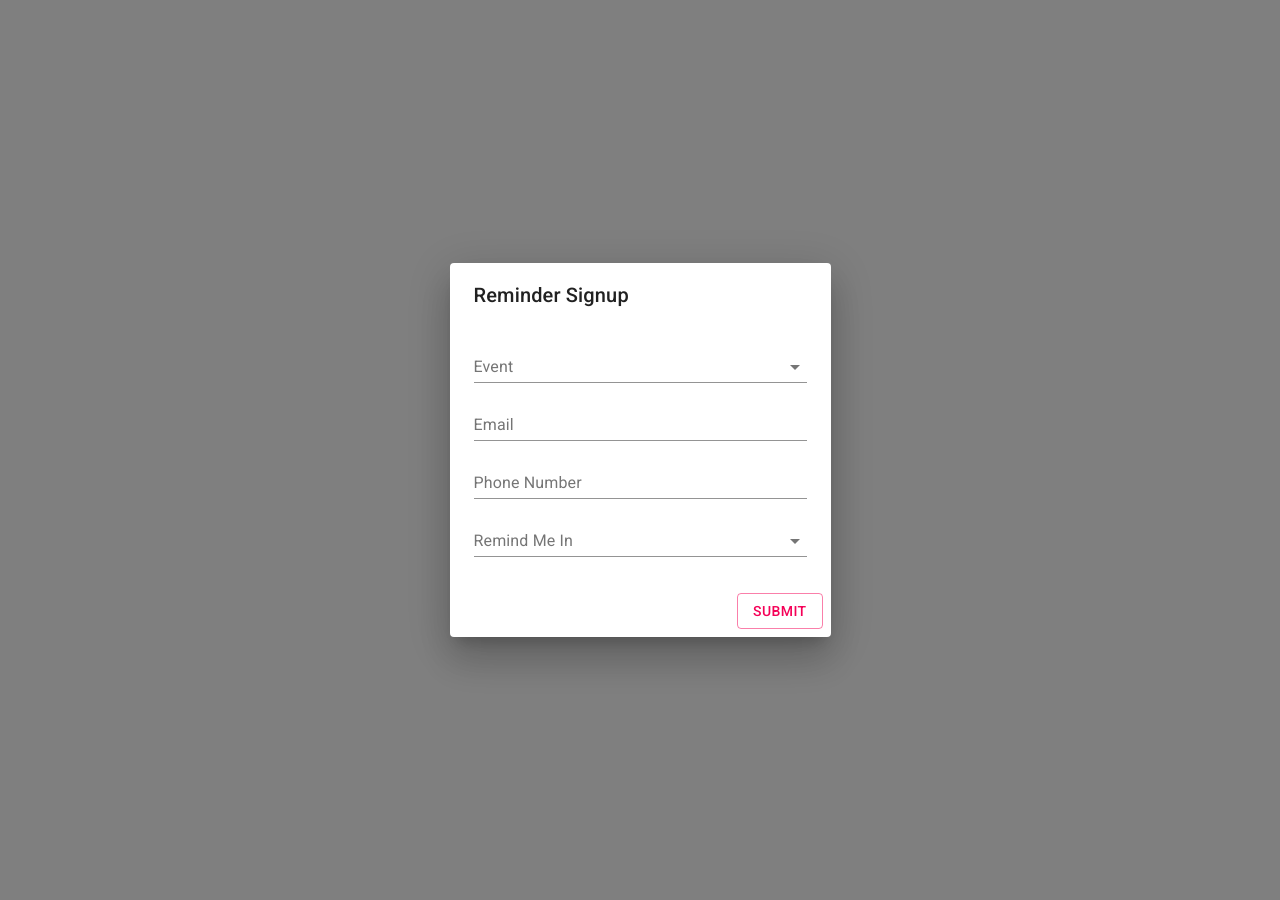
reminders form › Validation fails if an empty form is submitted
Note: Click the submit button and we should see a warning
Click the button "Submit" at (780, 611), box x1=737 y1=593 x2=822 y2=629
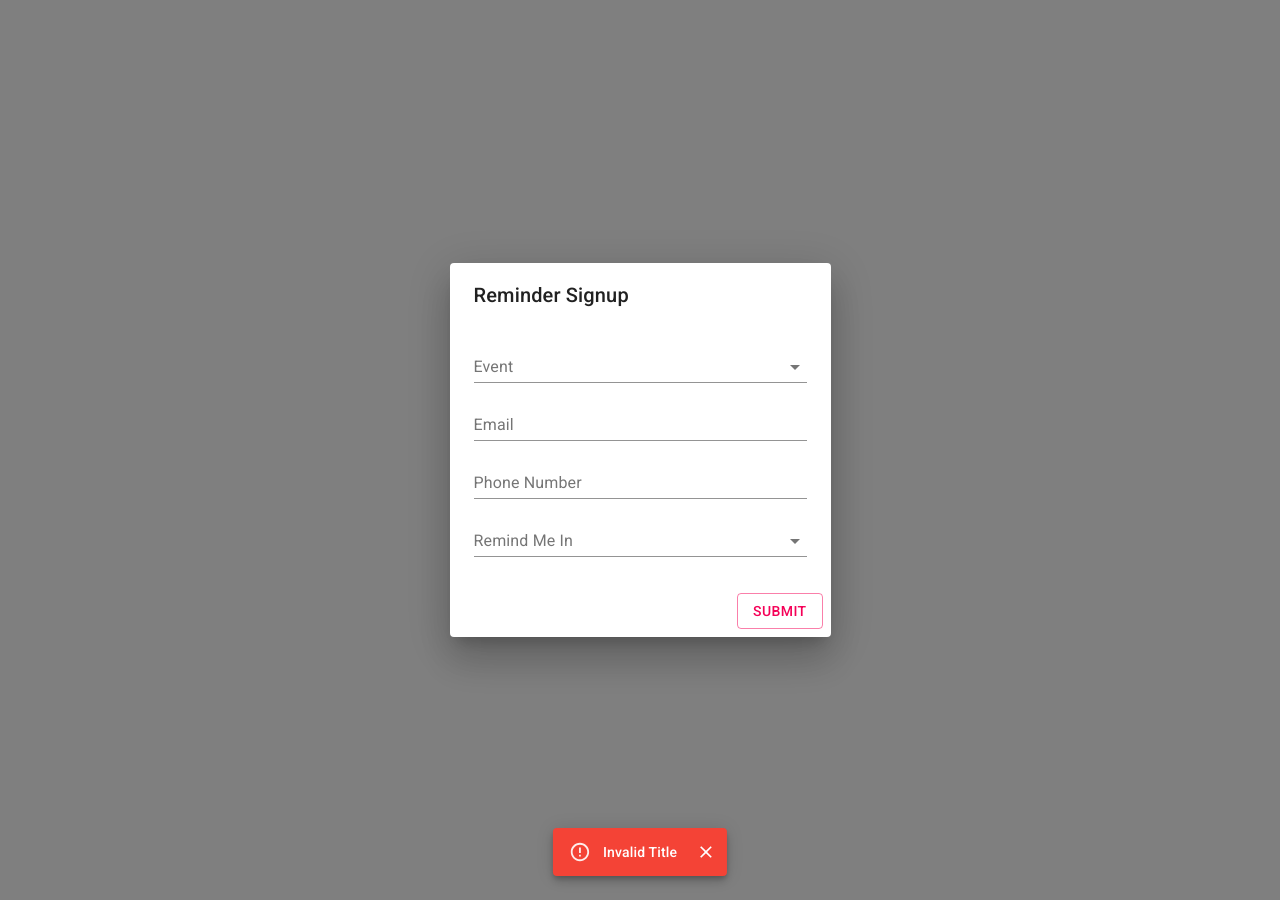
Check: the text "Invalid Title" is shown, box x1=603 y1=844 x2=677 y2=860
